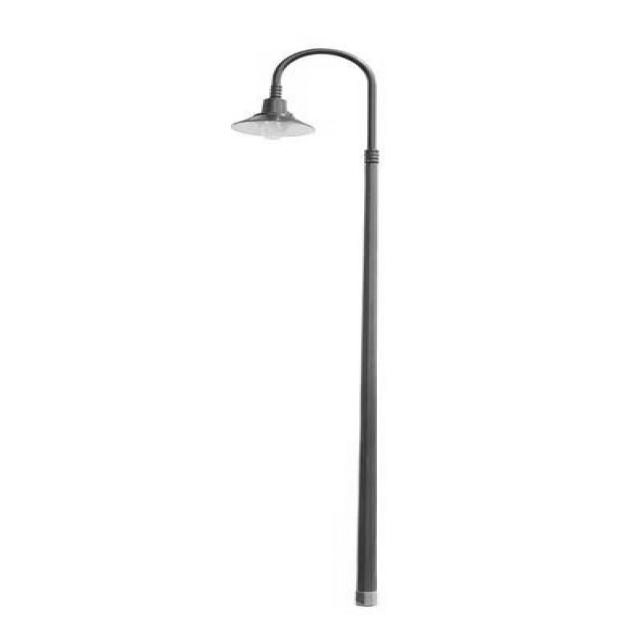Pole: (233, 48, 377, 607)
